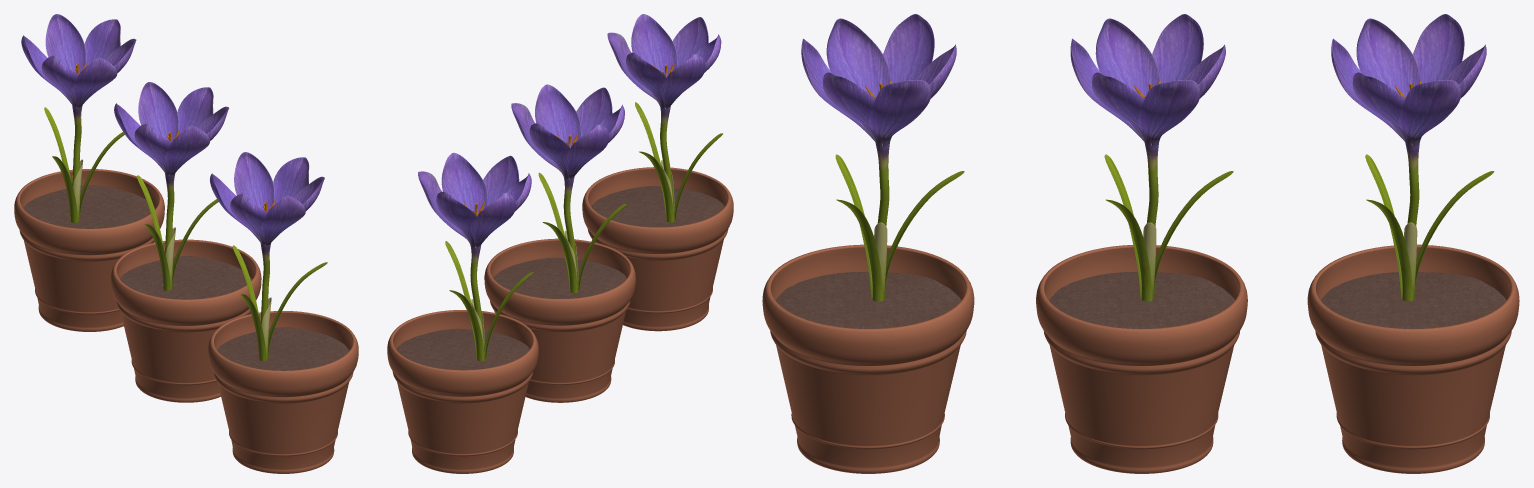
File: Room1-Flower7.glb
3 views of the same model, side by side, from view 1: azimuth 30°, elevation 25°; view 2: azimuth 150°, elevation 25°; view 3: azimuth 270°, elevation 25° (orthographic). The views are drawn at different scales.
Parts seen in each view (by area): view 1: Plant_Pot_Soil_Plant_Pot_Soil_M_0.033, Plant_Pot_Soil_Plant_Pot_Soil_M_0.034, Plant_Pot_Soil_Plant_Pot_Soil_M_0.035, Object_2.022, Object_2.021, Object_2.020; view 2: Plant_Pot_Soil_Plant_Pot_Soil_M_0.035, Plant_Pot_Soil_Plant_Pot_Soil_M_0.033, Plant_Pot_Soil_Plant_Pot_Soil_M_0.034, Object_2.021, Object_2.022, Object_2.020; view 3: Plant_Pot_Soil_Plant_Pot_Soil_M_0.035, Plant_Pot_Soil_Plant_Pot_Soil_M_0.033, Plant_Pot_Soil_Plant_Pot_Soil_M_0.034, Object_2.022, Object_2.020, Object_2.021.
Part boxes in pixels (x1=…): Plant_Pot_Soil_Plant_Pot_Soil_M_0.033: x1=208, y1=311, x2=358, y2=473; Plant_Pot_Soil_Plant_Pot_Soil_M_0.034: x1=110, y1=239, x2=261, y2=402; Plant_Pot_Soil_Plant_Pot_Soil_M_0.035: x1=14, y1=169, x2=164, y2=331; Object_2.022: x1=210, y1=152, x2=327, y2=360; Object_2.021: x1=21, y1=14, x2=136, y2=222; Object_2.020: x1=114, y1=82, x2=228, y2=290; Plant_Pot_Soil_Plant_Pot_Soil_M_0.035: x1=387, y1=310, x2=538, y2=473; Plant_Pot_Soil_Plant_Pot_Soil_M_0.033: x1=582, y1=167, x2=733, y2=331; Plant_Pot_Soil_Plant_Pot_Soil_M_0.034: x1=484, y1=238, x2=635, y2=402; Object_2.021: x1=418, y1=152, x2=533, y2=361; Object_2.022: x1=607, y1=14, x2=722, y2=222; Object_2.020: x1=511, y1=84, x2=626, y2=293; Plant_Pot_Soil_Plant_Pot_Soil_M_0.035: x1=1307, y1=244, x2=1519, y2=473; Plant_Pot_Soil_Plant_Pot_Soil_M_0.033: x1=762, y1=244, x2=974, y2=473; Plant_Pot_Soil_Plant_Pot_Soil_M_0.034: x1=1036, y1=245, x2=1247, y2=473; Object_2.022: x1=801, y1=14, x2=964, y2=301; Object_2.020: x1=1070, y1=14, x2=1233, y2=301; Object_2.021: x1=1331, y1=14, x2=1494, y2=301.
Size of the model in its own units: 1.5 by 3.08 by 5.37.
3 materials, 3 textured.
